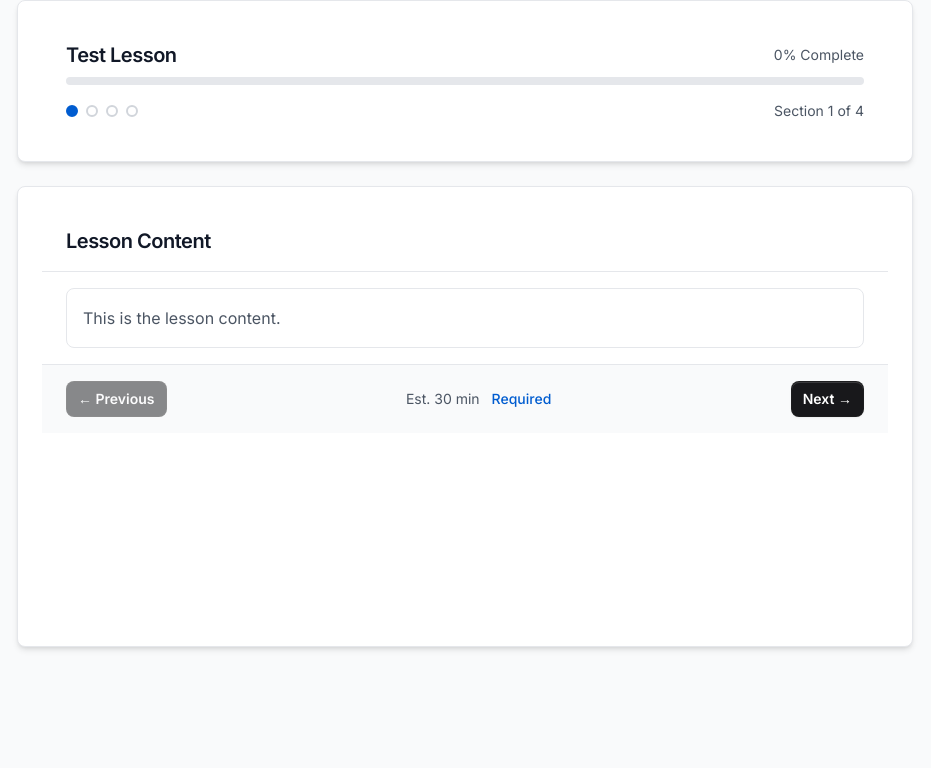
LessonViewer › Assessment Interaction › renders assessment component for assessment sections
The image size is (931, 768).
# Navigate to assessment section (last section)
Click the button "Next →".
click(827, 399)  # box [791,381,864,417]
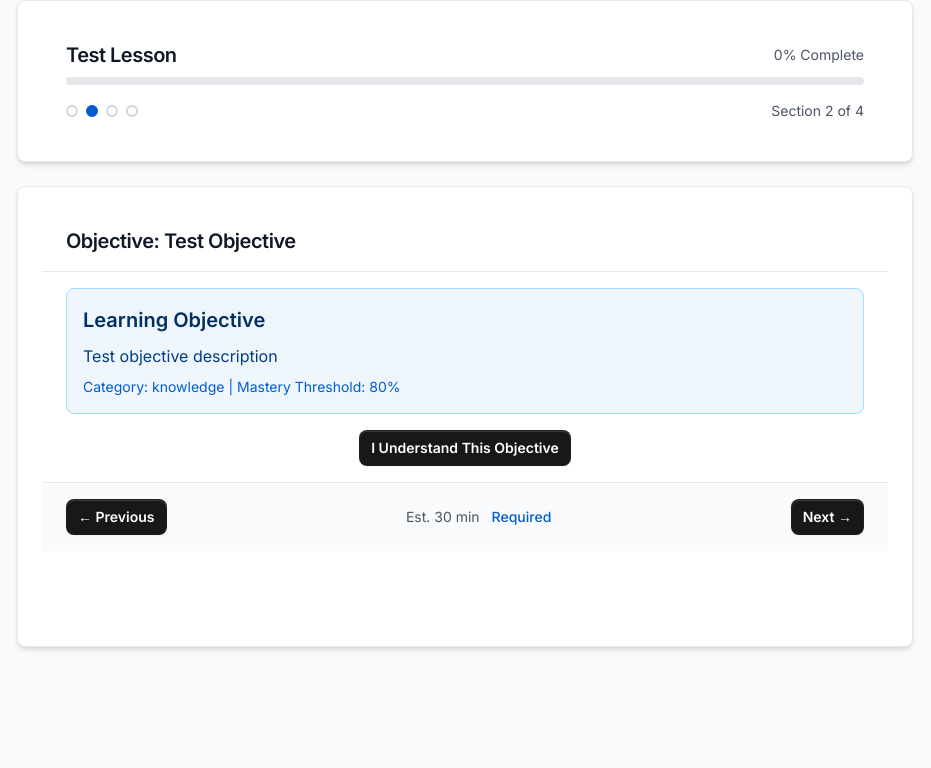
Click the button "Next →".
click(827, 517)  # box [791,499,864,535]
(page scrolled)
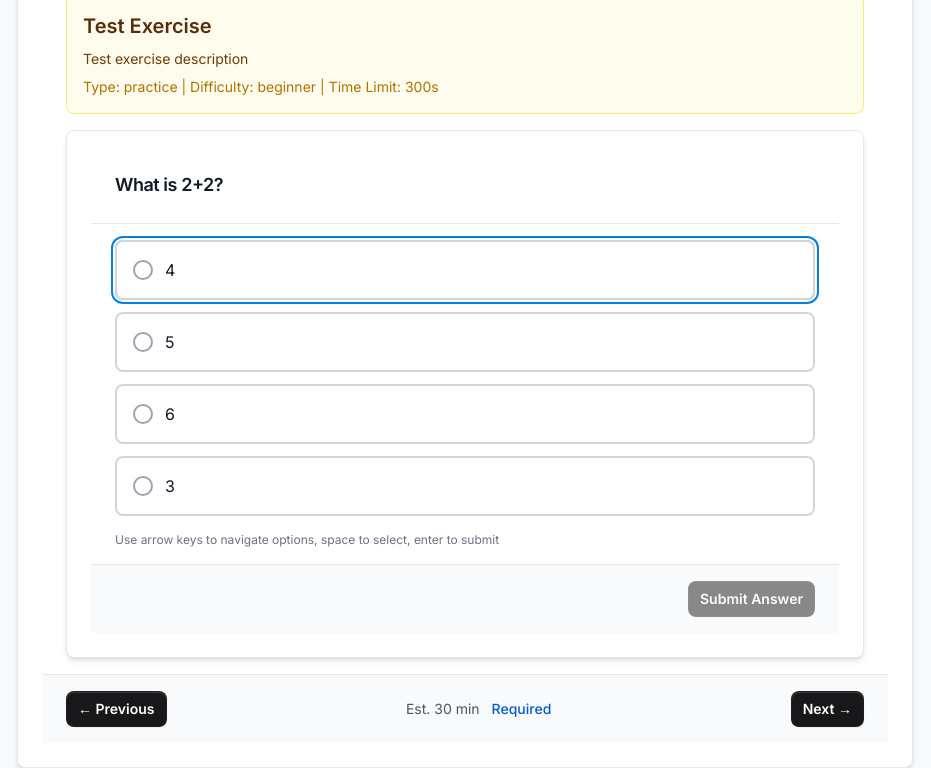
Click the button "Next →".
click(827, 709)  # box [791,691,864,727]
(page scrolled)
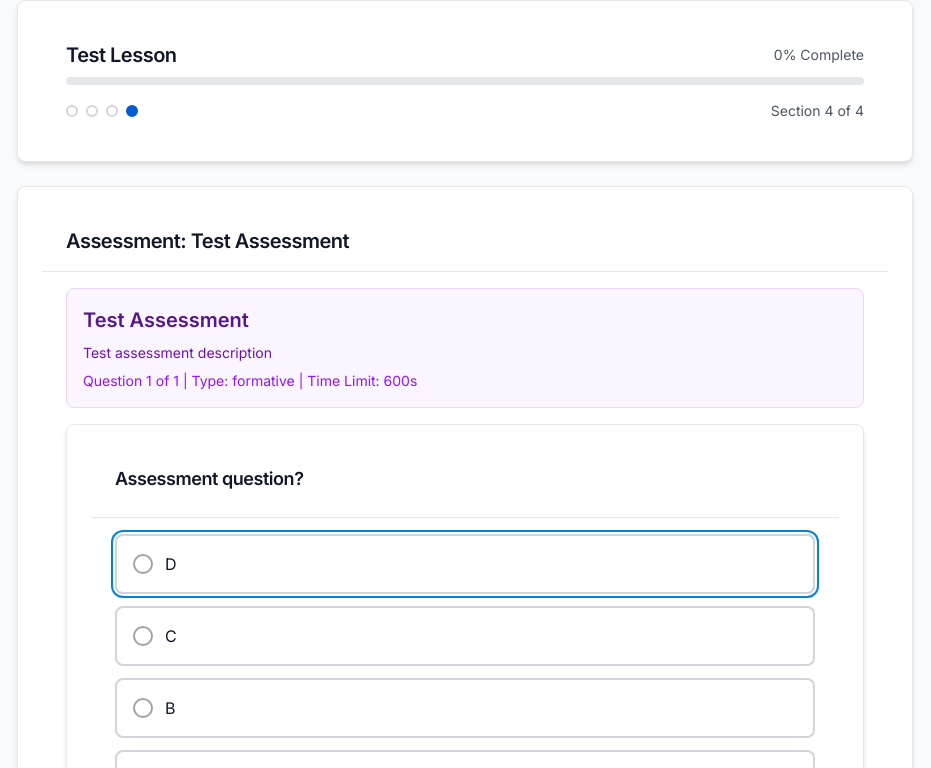
Check: the heading "Assessment: Test Assessment" is shown, box [66,227,349,255]
